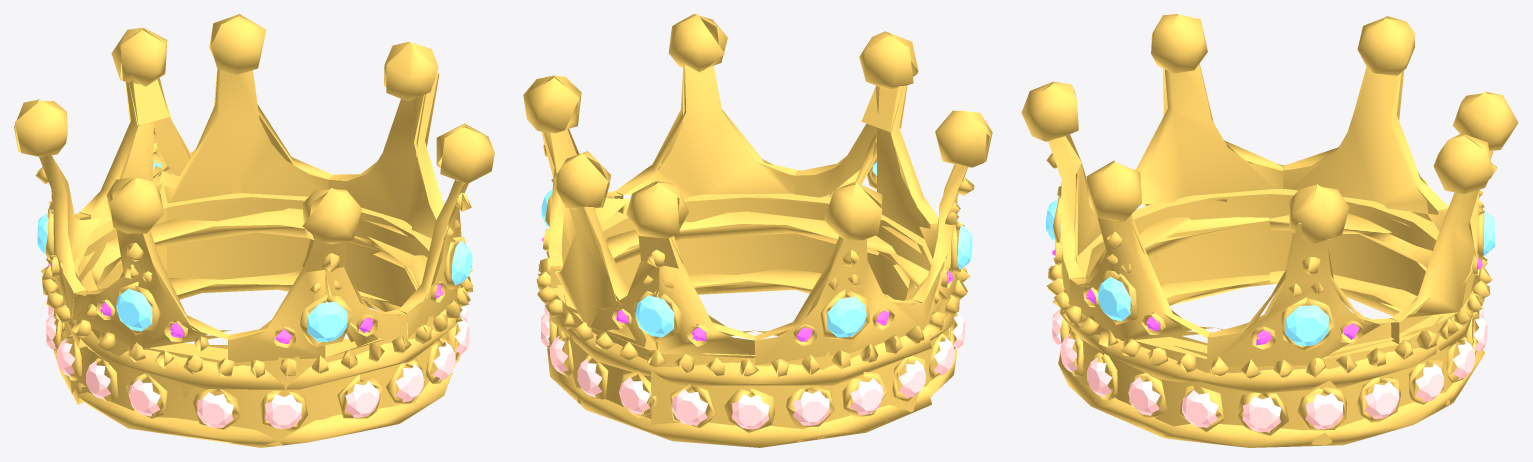
The model's file is Gold_Bangle.glb.
3 views of the same model, side by side, from view 1: azimuth 30°, elevation 25°; view 2: azimuth 150°, elevation 25°; view 3: azimuth 270°, elevation 25° (orthographic). The views are drawn at different scales.
Visible parts, largest first — view 1: Gold_Bangle; view 2: Gold_Bangle; view 3: Gold_Bangle.
Boxes of the visible parts, box(x1,y1,x2,y2) form: Gold_Bangle: box(14, 14, 494, 447); Gold_Bangle: box(523, 14, 992, 447); Gold_Bangle: box(1021, 14, 1518, 447).
Size of the model in its own units: 0.6551 by 0.4194 by 0.7.
